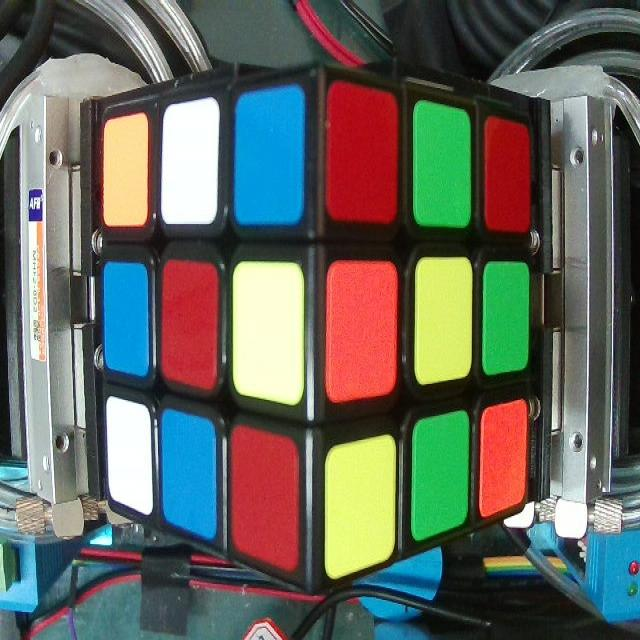b: (236, 93, 302, 219), (163, 412, 215, 539), (104, 262, 148, 377)
g: (418, 101, 474, 226), (415, 418, 467, 536), (486, 263, 530, 369)
o: (330, 261, 396, 399), (482, 406, 528, 516), (104, 118, 148, 228)
r: (232, 427, 298, 570), (329, 83, 395, 221), (165, 259, 216, 389), (487, 118, 529, 229)
w: (166, 103, 215, 228), (106, 400, 154, 517)
y: (235, 262, 303, 407), (327, 446, 394, 571), (419, 261, 468, 382)
